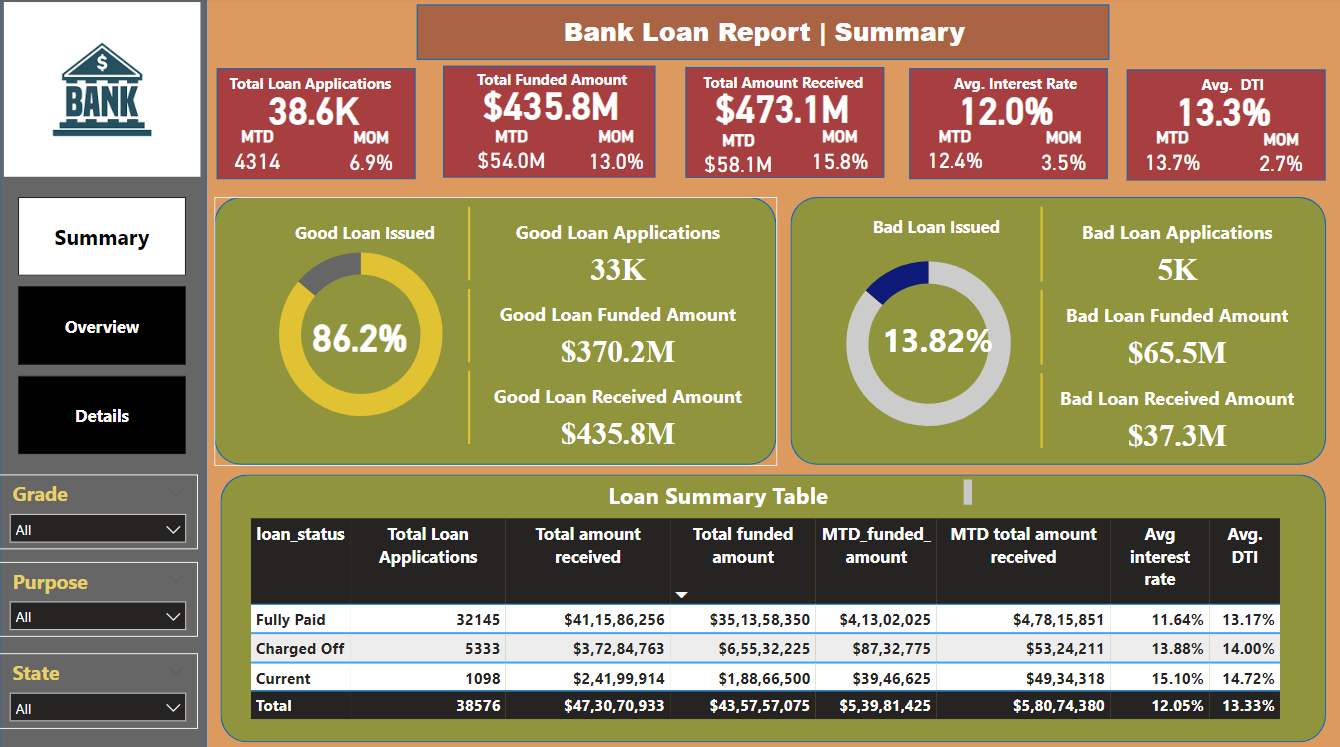

The page's visual inventory and layout, read from the dashboard file:
{"tool":"powerbi","page":{"name":"Summary","canvas":[1280,720],"ordinal":0},"visuals":[{"type":"shape","box":[398.3,7.5,659.6,52.8],"z":0},{"type":"shape","box":[654.6,66.3,189.3,106],"z":0,"group":"g3"},{"type":"shape","box":[423.3,66.9,202.3,106.8],"z":0,"group":"g2"},{"type":"shape","box":[208.8,67.6,189.3,106],"z":0,"group":"g1"},{"type":"shape","box":[868.4,67.6,189.3,106],"z":0,"group":"g4"},{"type":"shape","box":[1075.5,68.8,189.3,106],"z":0,"group":"g5"},{"type":"shape","box":[1.2,0,197.5,720.2],"z":1000},{"type":"textbox","box":[450.6,65.1,178.4,37],"z":1000,"group":"g2"},{"type":"textbox","box":[479.9,11.3,500,49],"z":2000},{"type":"card","title":"MTD","fields":{"Values":["Measure_Table.MTD_funded_amount"]},"box":[446.9,124.7,82.9,46.5],"z":2000,"group":"g2"},{"type":"group","id":"g1","title":"Group 1","box":[206,59.1,192.2,114.4],"z":3000},{"type":"card","title":"MOM","fields":{"Values":["Measure_Table.MOM funded amount"]},"box":[553.7,124.7,67.8,42.7],"z":3000,"group":"g2"},{"type":"card","fields":{"Values":["Measure_Table.Total amount received"]},"box":[651.8,57.8,189.7,91.7],"z":4000,"group":"g3"},{"type":"card","fields":{"Values":["Measure_Table.Total Loan Applications"]},"box":[206,59.1,189.4,91.9],"z":4000,"group":"g1"},{"type":"card","fields":{"Values":["Measure_Table.Avg interest rate"]},"box":[865.6,59.1,189.4,91.9],"z":4000,"group":"g4"},{"type":"card","fields":{"Values":["Measure_Table.Avg. DTI"]},"box":[1072.7,60.3,189.4,91.9],"z":4000,"group":"g5"},{"type":"shape","box":[206,191,535.2,255],"z":4000},{"type":"group","id":"g2","title":"Group 2","box":[423.3,65.1,206,108],"z":4500,"group":"g6"},{"type":"card","fields":{"Values":["Measure_Table.Total funded amount"]},"box":[432.1,55,189.7,93],"z":5000,"group":"g6"},{"type":"group","id":"g3","title":"Group 1","box":[651.8,57.8,192.2,115.6],"z":5000},{"type":"textbox","box":[665.5,66,178.4,37],"z":5000,"group":"g3"},{"type":"textbox","box":[879.3,67.3,178.4,37],"z":5000,"group":"g4"},{"type":"textbox","box":[216,67.8,182.2,36.4],"z":5000,"group":"g1"},{"type":"textbox","box":[1086.4,68.5,178.4,37],"z":5000,"group":"g5"},{"type":"card","fields":{"Values":["Measure_Table.Good Loan %"]},"box":[288.9,276.4,113.1,91.7],"z":5000,"group":"g7"},{"type":"group","id":"g4","title":"Group 1","box":[865.6,59.1,192.2,114.3],"z":6000},{"type":"card","title":"MTD","fields":{"Values":["Measure_Table.MTD avg. interest rate"]},"box":[876.4,123.1,70.4,44],"z":6000,"group":"g4"},{"type":"card","title":"MTD","fields":{"Values":["Measure_Table.MTD_Loan_Applications"]},"box":[217.1,123.5,60.7,44],"z":6000,"group":"g1"},{"type":"card","title":"MTD","fields":{"Values":["Measure_Table.MTD avg. dti"]},"box":[1083.5,124.3,70.4,44],"z":6000,"group":"g5"},{"type":"card","title":"MTD","fields":{"Values":["Measure_Table.MTD total amount received"]},"box":[663.3,126.5,81.7,46.5],"z":6000,"group":"g3"},{"type":"group","id":"g5","title":"Group 1","box":[1072.7,60.3,192.2,114.3],"z":7000},{"type":"card","title":"MOM","fields":{"Values":["Measure_Table.MOM total amount received"]},"box":[766.5,123.4,70.2,47.6],"z":7000,"group":"g3"},{"type":"card","title":"MOM","fields":{"Values":["Measure_Table.MOM Loan Application"]},"box":[320.7,124.7,70.2,47.6],"z":7000,"group":"g1"},{"type":"card","title":"MOM","fields":{"Values":["Measure_Table.MOM Avg. interest rate"]},"box":[980.3,124.7,70.2,47.6],"z":7000,"group":"g4"},{"type":"card","title":"MOM","fields":{"Values":["Measure_Table.MOM Avg. dti"]},"box":[1187.4,125.9,70.2,47.6],"z":7000,"group":"g5"},{"type":"group","id":"g6","title":"Group 3","box":[423.3,55,206,118.1],"z":8000},{"type":"shape","box":[755.1,191,510.1,255],"z":9000},{"type":"donutChart","fields":{"Category":["fin_loan_table.Good vs Bad Loan"],"Y":["Measure_Table.Total Loan Applications"]},"box":[748.8,227.4,275.1,206],"z":10000},{"type":"group","id":"g7","title":"Group 4","box":[212.3,175.4,751.5,278.9],"z":11000},{"type":"donutChart","fields":{"Category":["fin_loan_table.Good vs Bad Loan"],"Y":["Measure_Table.Total Loan Applications"]},"box":[212.3,219.8,267.6,204.8],"z":11000,"group":"g7"},{"type":"textbox","box":[247.5,208.6,203.5,37.7],"z":12000},{"type":"textbox","box":[765.1,202.3,256.3,37.7],"z":13000},{"type":"card","fields":{"Values":["Measure_Table.Bad Loan %"]},"box":[828.2,306.3,135.7,41.5],"z":13001,"group":"g7"},{"type":"cardVisual","fields":{"Data":["Measure_Table.Bad Loan Applications","Measure_Table.Bad Loan Funded Amount","Measure_Table.Bad Loan Received Amount"]},"box":[987.5,174.6,270.1,280.2],"z":14000},{"type":"shape","box":[212.3,454.8,1052.8,255],"z":15000},{"type":"tableEx","fields":{"Values":["fin_loan_table.loan_status","Measure_Table.Total Loan Applications","Measure_Table.Total amount received","Measure_Table.Total funded amount","Measure_Table.MTD_funded_amount","Measure_Table.MTD total amount received","Measure_Table.Avg interest rate","Measure_Table.Avg. DTI"]},"box":[234.9,491.2,1002.6,206],"z":16000},{"type":"textbox","box":[447.3,454.8,485,36.4],"z":17000},{"type":"slicer","fields":{"Values":["fin_loan_table.address_state"]},"box":[0,625.1,190.3,72.3],"z":18000},{"type":"cardVisual","fields":{"Data":["Measure_Table.Good Loan Applications","Measure_Table.Good Loan Funded Amount","Measure_Table.Good Loan Received Amount"]},"box":[443.1,175.4,295.3,278.9],"z":18002,"group":"g7"},{"type":"slicer","fields":{"Values":["fin_loan_table.purpose"]},"box":[0,538.4,190.3,71.1],"z":19000},{"type":"slicer","fields":{"Values":["fin_loan_table.grade"]},"box":[0,455.3,190.3,71.1],"z":20000},{"type":"image","box":[0,0,198.7,175.8],"z":21000},{"type":"pageNavigator","box":[19,190.5,160.7,246.4],"z":22001}]}

Visuals, with their boxes in screenshot pixels (x1, y1, x2, y2), scaled from the page's 1280x720 canvas onto the 1340x747 screenshot:
shape: {"left": 417, "top": 8, "right": 1107, "bottom": 63}
shape: {"left": 685, "top": 69, "right": 883, "bottom": 179}
shape: {"left": 443, "top": 69, "right": 655, "bottom": 180}
shape: {"left": 219, "top": 70, "right": 417, "bottom": 180}
shape: {"left": 909, "top": 70, "right": 1107, "bottom": 180}
shape: {"left": 1126, "top": 71, "right": 1324, "bottom": 181}
shape: {"left": 1, "top": 0, "right": 208, "bottom": 746}
textbox: {"left": 472, "top": 68, "right": 658, "bottom": 106}
textbox: {"left": 502, "top": 12, "right": 1026, "bottom": 63}
"MTD" card: {"left": 468, "top": 129, "right": 555, "bottom": 178}
"Group 1" group: {"left": 216, "top": 61, "right": 417, "bottom": 180}
"MOM" card: {"left": 580, "top": 129, "right": 651, "bottom": 174}
card - Measure_Table.Total amount received: {"left": 682, "top": 60, "right": 881, "bottom": 155}
card - Measure_Table.Total Loan Applications: {"left": 216, "top": 61, "right": 414, "bottom": 157}
card - Measure_Table.Avg interest rate: {"left": 906, "top": 61, "right": 1104, "bottom": 157}
card - Measure_Table.Avg. DTI: {"left": 1123, "top": 63, "right": 1321, "bottom": 158}
shape: {"left": 216, "top": 198, "right": 776, "bottom": 463}
"Group 2" group: {"left": 443, "top": 68, "right": 659, "bottom": 180}
card - Measure_Table.Total funded amount: {"left": 452, "top": 57, "right": 651, "bottom": 154}
"Group 1" group: {"left": 682, "top": 60, "right": 884, "bottom": 180}
textbox: {"left": 697, "top": 68, "right": 883, "bottom": 107}
textbox: {"left": 921, "top": 70, "right": 1107, "bottom": 108}
textbox: {"left": 226, "top": 70, "right": 417, "bottom": 108}
textbox: {"left": 1137, "top": 71, "right": 1324, "bottom": 109}
card - Measure_Table.Good Loan %: {"left": 302, "top": 287, "right": 421, "bottom": 382}
"Group 1" group: {"left": 906, "top": 61, "right": 1107, "bottom": 180}
"MTD" card: {"left": 917, "top": 128, "right": 991, "bottom": 173}
"MTD" card: {"left": 227, "top": 128, "right": 291, "bottom": 174}
"MTD" card: {"left": 1134, "top": 129, "right": 1208, "bottom": 175}
"MTD" card: {"left": 694, "top": 131, "right": 780, "bottom": 179}
"Group 1" group: {"left": 1123, "top": 63, "right": 1324, "bottom": 181}
"MOM" card: {"left": 802, "top": 128, "right": 876, "bottom": 177}
"MOM" card: {"left": 336, "top": 129, "right": 409, "bottom": 179}
"MOM" card: {"left": 1026, "top": 129, "right": 1100, "bottom": 179}
"MOM" card: {"left": 1243, "top": 131, "right": 1317, "bottom": 180}
"Group 3" group: {"left": 443, "top": 57, "right": 659, "bottom": 180}
shape: {"left": 790, "top": 198, "right": 1325, "bottom": 463}
donutChart - fin_loan_table.Good vs Bad Loan x Measure_Table.Total Loan Applications: {"left": 784, "top": 236, "right": 1072, "bottom": 450}
"Group 4" group: {"left": 222, "top": 182, "right": 1009, "bottom": 471}
donutChart - fin_loan_table.Good vs Bad Loan x Measure_Table.Total Loan Applications: {"left": 222, "top": 228, "right": 502, "bottom": 441}
textbox: {"left": 259, "top": 216, "right": 472, "bottom": 256}
textbox: {"left": 801, "top": 210, "right": 1069, "bottom": 249}
card - Measure_Table.Bad Loan %: {"left": 867, "top": 318, "right": 1009, "bottom": 361}
cardVisual - Measure_Table.Bad Loan Applications x Measure_Table.Bad Loan Funded Amount: {"left": 1034, "top": 181, "right": 1317, "bottom": 472}
shape: {"left": 222, "top": 472, "right": 1324, "bottom": 736}
tableEx - fin_loan_table.loan_status x Measure_Table.Total Loan Applications: {"left": 246, "top": 510, "right": 1296, "bottom": 723}
textbox: {"left": 468, "top": 472, "right": 976, "bottom": 510}
slicer - fin_loan_table.address_state: {"left": 0, "top": 649, "right": 199, "bottom": 724}
cardVisual - Measure_Table.Good Loan Applications x Measure_Table.Good Loan Funded Amount: {"left": 464, "top": 182, "right": 773, "bottom": 471}
slicer - fin_loan_table.purpose: {"left": 0, "top": 559, "right": 199, "bottom": 632}
slicer - fin_loan_table.grade: {"left": 0, "top": 472, "right": 199, "bottom": 546}
image: {"left": 0, "top": 0, "right": 208, "bottom": 182}
pageNavigator: {"left": 20, "top": 198, "right": 188, "bottom": 453}
